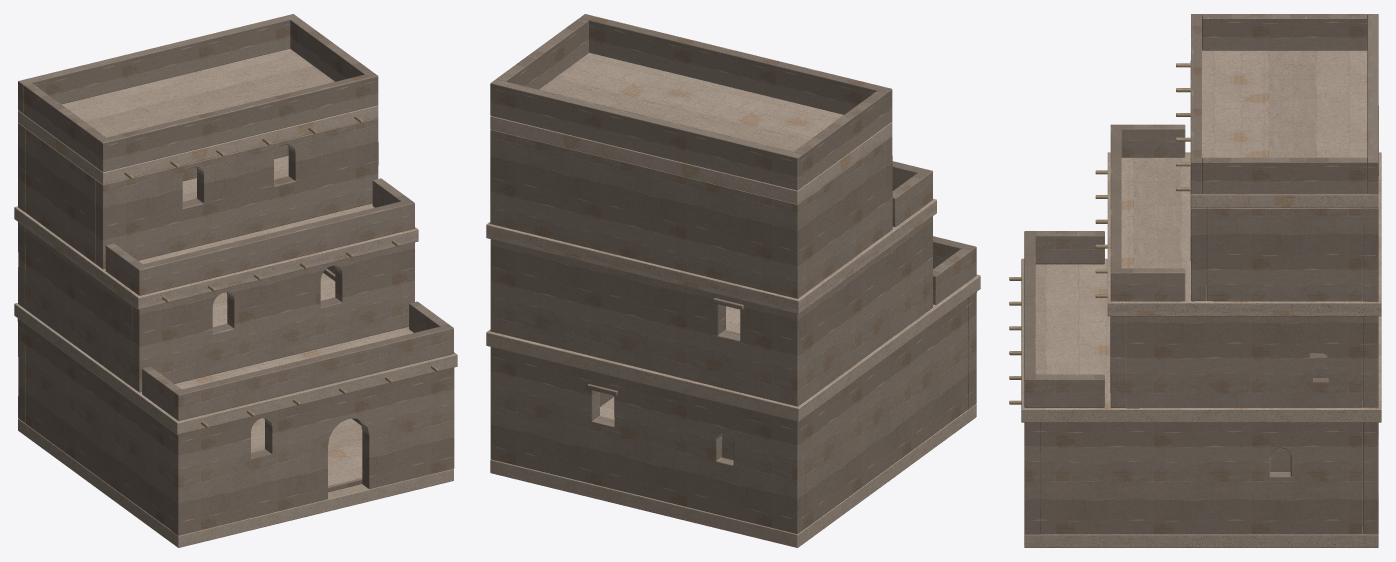
Rendered from house_21.glb.
3 views of the same model, side by side, from view 1: azimuth 30°, elevation 25°; view 2: azimuth 150°, elevation 25°; view 3: azimuth 270°, elevation 25° (orthographic). The views are drawn at different scales.
Parts seen in each view (by area): view 1: house; view 2: house; view 3: house.
Part boxes in pixels (box(x1,y1,x2,y2)): house: box(14, 14, 457, 547); house: box(486, 14, 980, 547); house: box(1009, 14, 1381, 547).
Bounding box in the file's own units: 9.52 × 11.34 × 9.91.
3 materials, 3 textured.
